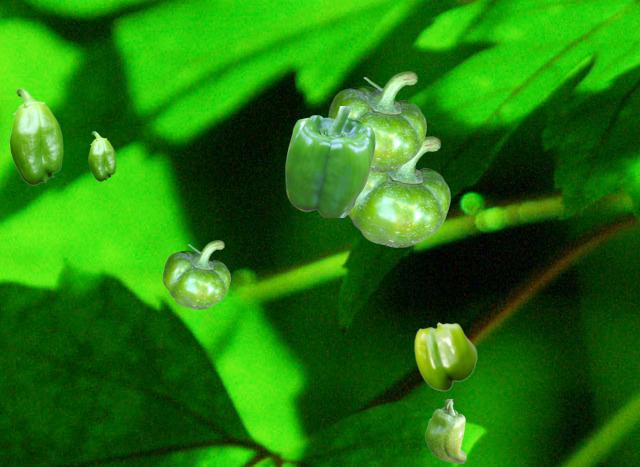bell_pepper: (348, 136, 449, 246), (285, 106, 374, 216), (328, 71, 425, 171), (9, 88, 62, 184), (163, 240, 229, 308), (414, 322, 476, 390), (425, 399, 465, 462), (88, 131, 115, 180)
